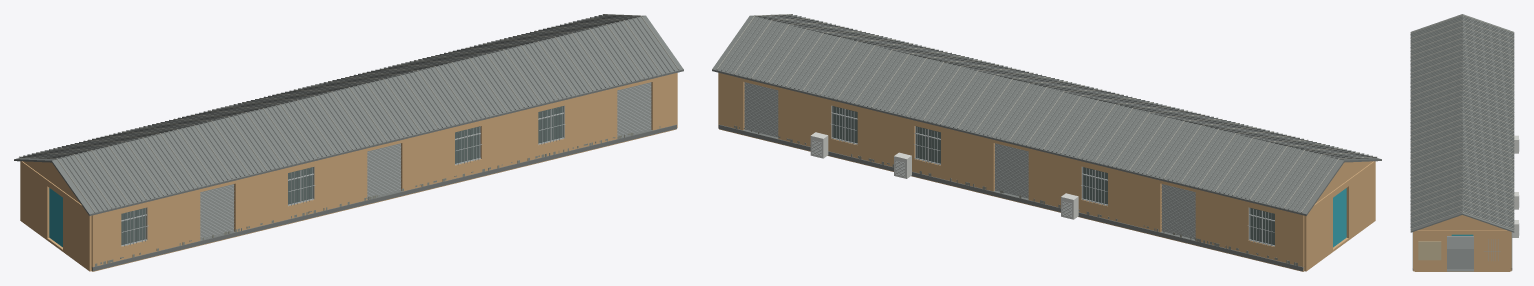
File: canteen-wing.glb
3 renders of one model, left to right at view 1: azimuth 30°, elevation 25°; view 2: azimuth 150°, elevation 25°; view 3: azimuth 270°, elevation 25°, orthographic. The views are drawn at different scales.
Visible parts, largest first — view 1: canteen-wing; view 2: canteen-wing; view 3: canteen-wing.
Part boxes in pixels (left/top/right/bottom): canteen-wing: left=14, top=14, right=683, bottom=271; canteen-wing: left=712, top=14, right=1381, bottom=271; canteen-wing: left=1410, top=14, right=1519, bottom=271.
Bounding box in the file's own units: 34.6 × 4.88 × 8.
